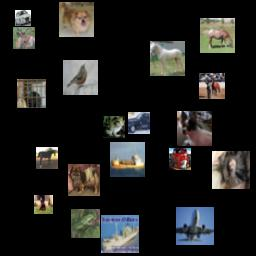airplane: (176, 207, 214, 245)
automobile: (128, 112, 150, 134), (15, 10, 31, 26)
bird: (63, 60, 98, 95)
cat: (212, 151, 250, 189), (17, 79, 46, 108)
deer: (13, 27, 35, 49)
dog: (177, 111, 212, 146), (59, 2, 94, 37), (68, 164, 100, 196), (34, 195, 53, 214)
frog: (71, 209, 100, 238), (103, 116, 125, 138)
ship: (101, 215, 139, 253), (110, 142, 145, 177)
truck: (169, 148, 191, 170)
